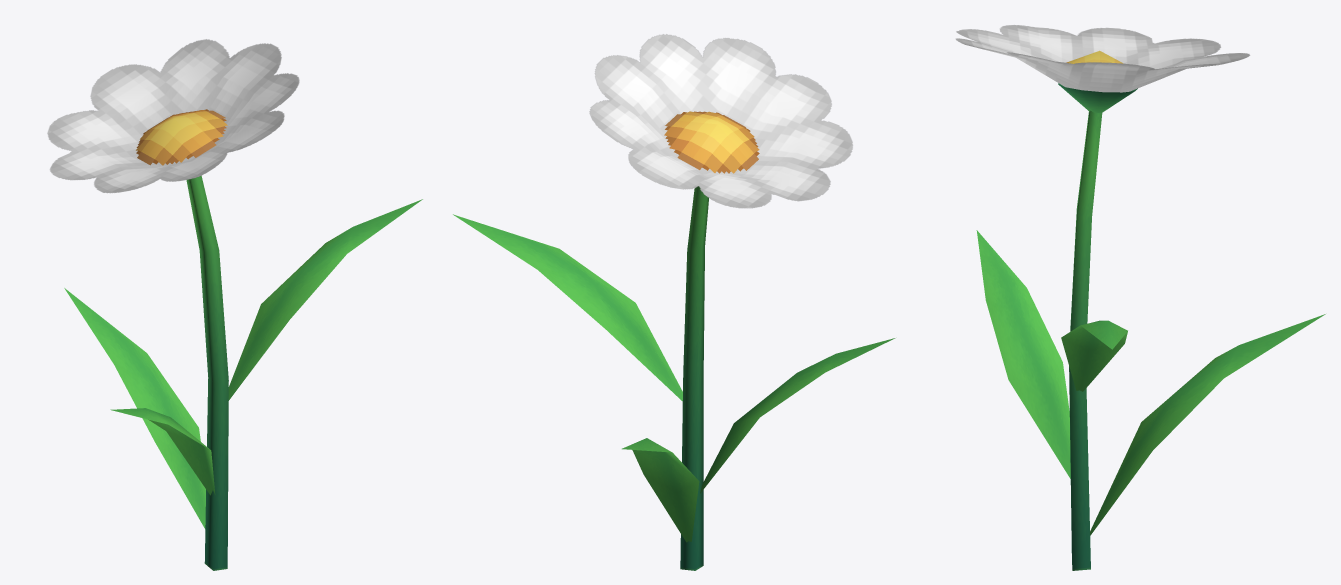
Rendered from Flower_Daisy_1.glb.
3 renders of one model, left to right at view 1: azimuth 30°, elevation 25°; view 2: azimuth 150°, elevation 25°; view 3: azimuth 270°, elevation 25°, orthographic. The views are drawn at different scales.
Parts seen in each view (by area): view 1: Cone.084, Cube.084, object6.068, object6.066, Cone.085, object6.067; view 2: Cone.084, object6.066, Cube.084, Cone.085, object6.068, object6.067; view 3: Cone.084, object6.067, Cube.084, object6.068, object6.066, Cylinder.088.
Boxes of the visible parts, x1,y1,x2,y2 form: Cone.084: [47, 39, 299, 193]; Cube.084: [186, 176, 228, 570]; object6.068: [64, 288, 205, 528]; object6.066: [228, 199, 422, 400]; Cone.085: [136, 109, 227, 165]; object6.067: [110, 408, 215, 495]; Cone.084: [589, 34, 852, 208]; object6.066: [453, 214, 682, 400]; Cube.084: [680, 186, 708, 570]; Cone.085: [664, 111, 759, 173]; object6.068: [622, 438, 699, 542]; object6.067: [700, 338, 895, 493]; Cone.084: [956, 25, 1249, 92]; object6.067: [976, 230, 1070, 478]; Cube.084: [1069, 110, 1102, 570]; object6.068: [1090, 314, 1325, 535]; object6.066: [1061, 320, 1127, 391]; Cylinder.088: [1058, 83, 1137, 113].
Bounding box in the file's own units: 0.3255 × 0.4079 × 0.2643.
Materials: 4 (4 with a texture image).
